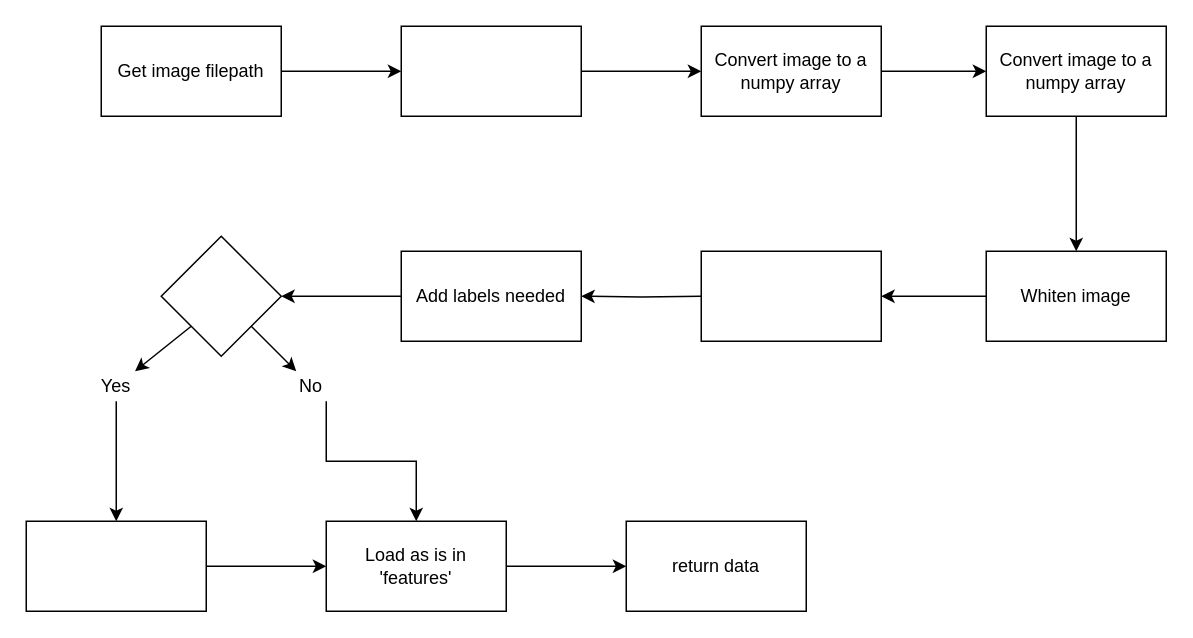
The diagram is 1193 pixels wide and 638 high, and some of its shapes have lost their labels. Each missing label, with the centre of its shape:
Add a fourth axis and convert resulting image to a 4d tensor: the point at 790,295
Load image from filepath: the point at 490,70
need patches?: the point at 220,295
Use patch extractor: the point at 115,565
